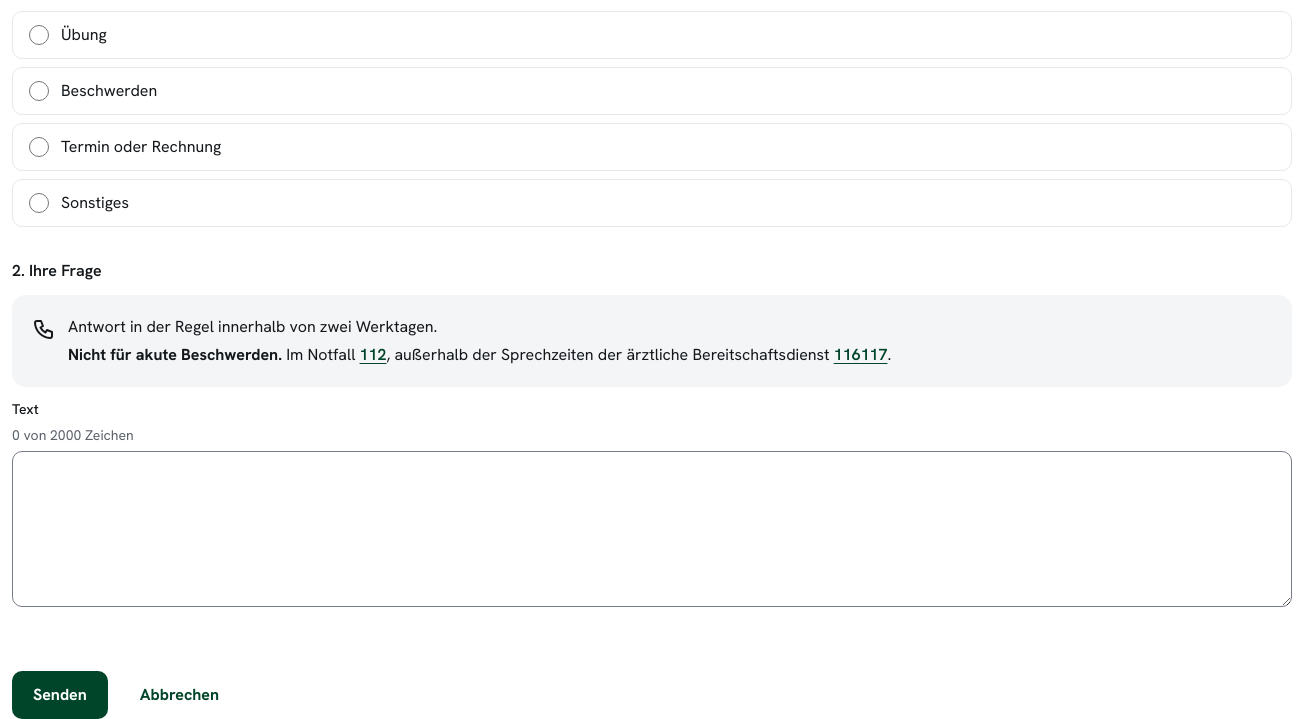
Scenario: Neue Nachricht (KOM-001) › verlangt Thema und Text; der Hinweis steht über dem Feld
This screenshot has width=1304, height=719.
(page scrolled)
Expected: the element named "Hinweis zu Antwortzeit und Notfällen" shows "Antwort in der Regel innerhalb von zwei Werktagen.", left=68, top=316, right=437, bottom=337
Expected: the element named "Hinweis zu Antwortzeit und Notfällen" shows "Nicht für akute Beschwerden.", left=68, top=344, right=282, bottom=365
Click the button "Senden" at [60, 695], box left=12, top=671, right=108, bottom=718
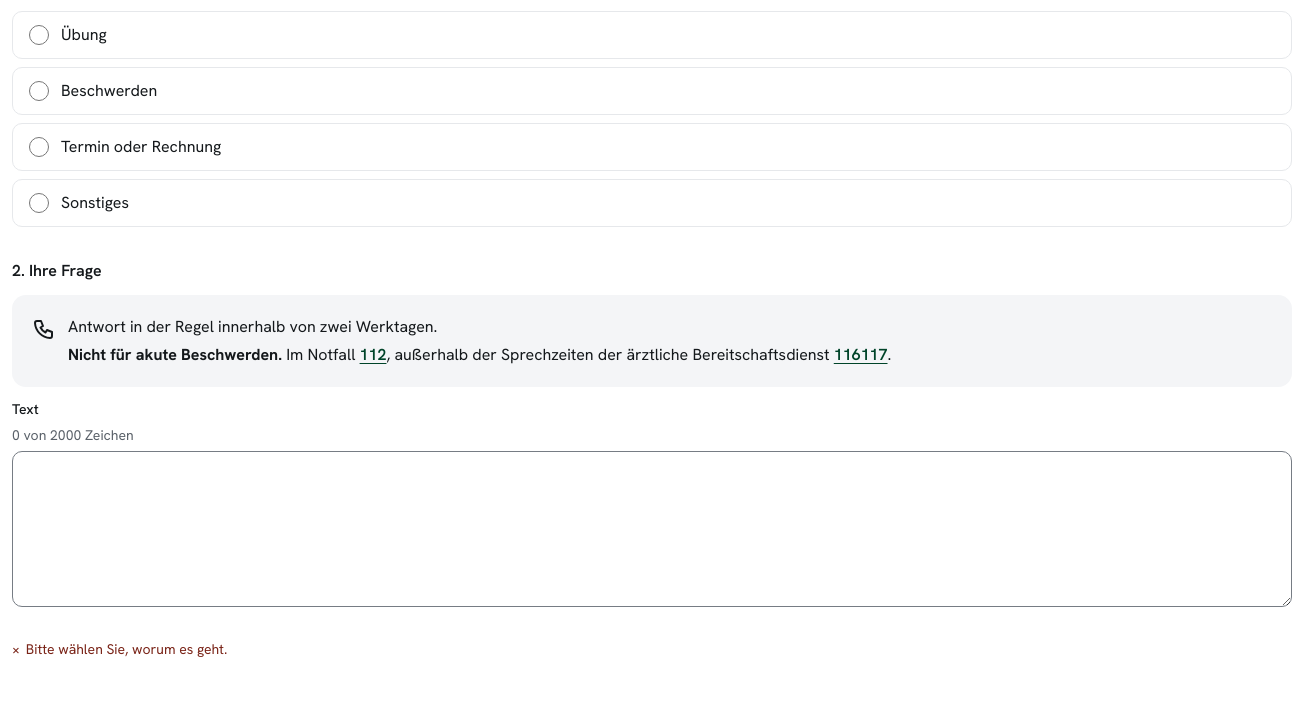
Expected: the message shows "Bitte wählen Sie, worum es geht.", left=26, top=640, right=227, bottom=658
Click the radio button labelled "Sonstiges" at [39, 203], box left=29, top=193, right=49, bottom=213
(page scrolled)
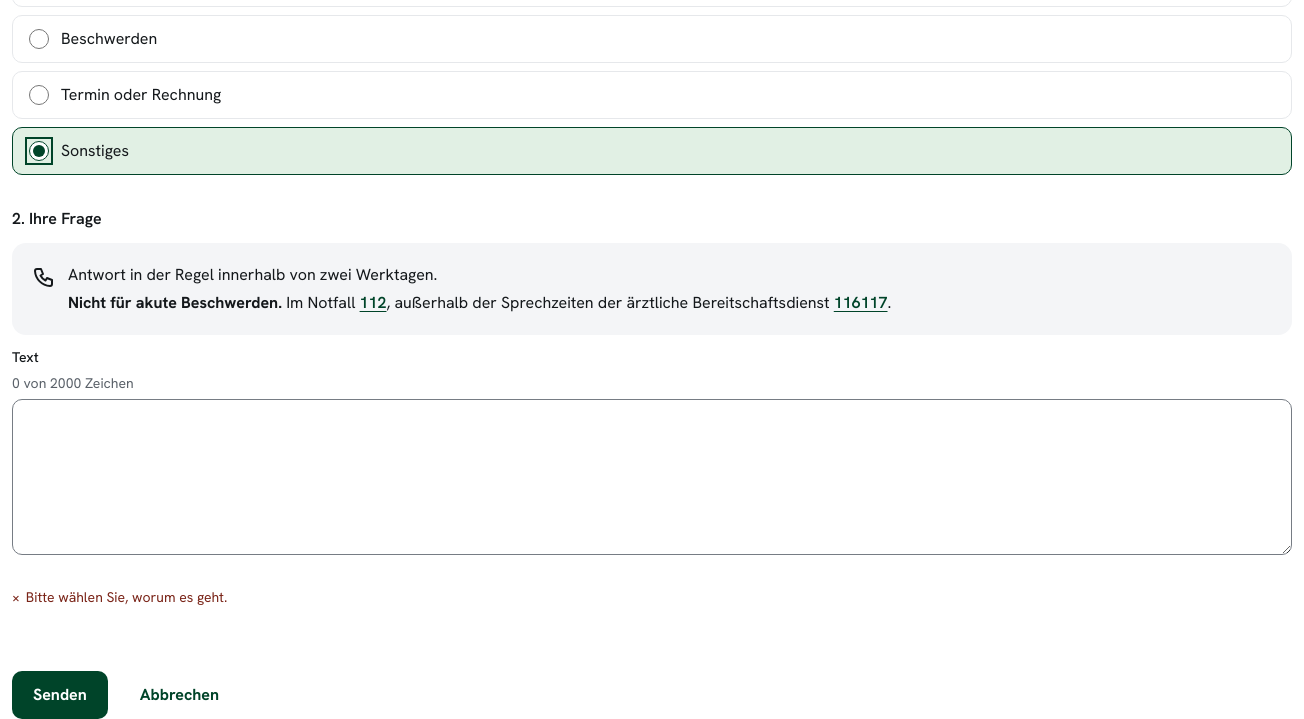
Click the button "Senden" at [60, 695], box left=12, top=671, right=108, bottom=718
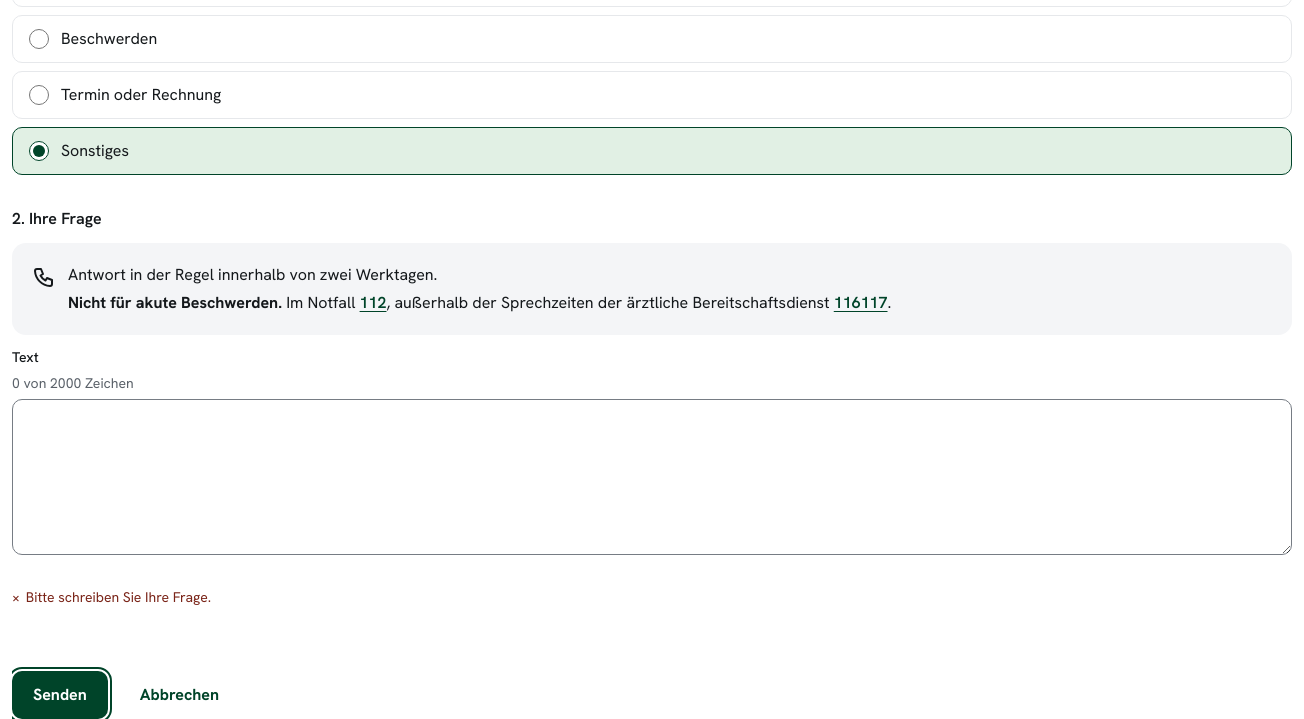
Expected: the button "Abbrechen" is shown, left=120, top=671, right=239, bottom=718
Expected: the message shows "Bitte schreiben Sie Ihre Frage.", left=26, top=588, right=211, bottom=606
